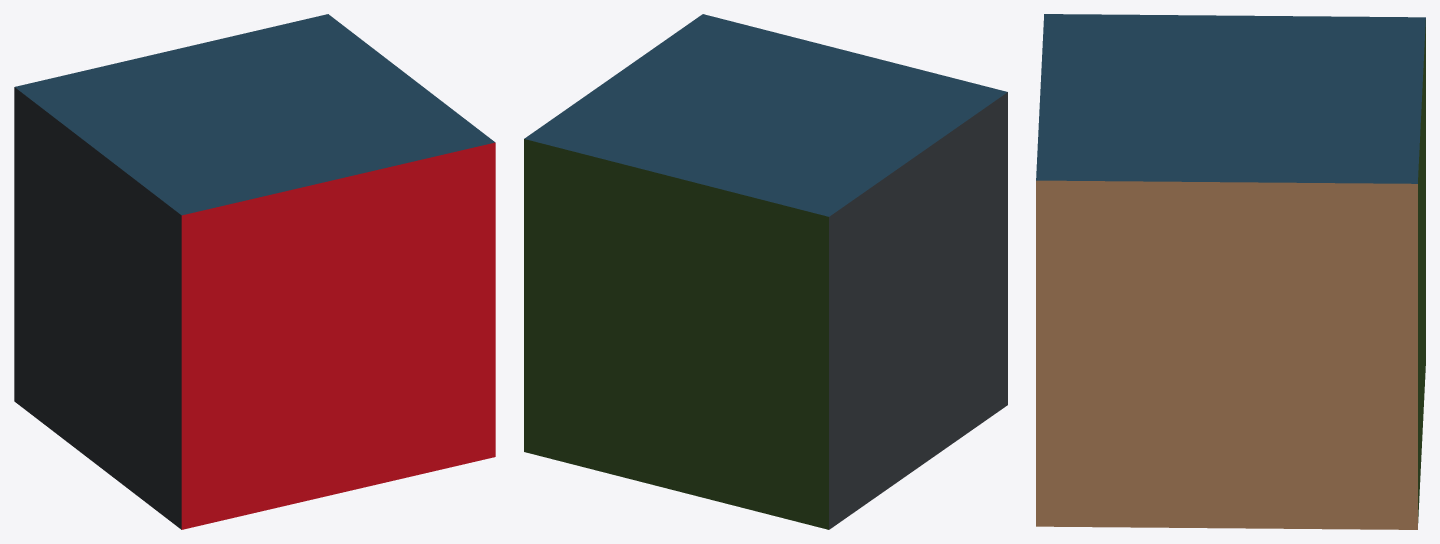
3 renders of one model, left to right at view 1: azimuth 30°, elevation 25°; view 2: azimuth 150°, elevation 25°; view 3: azimuth 270°, elevation 25°, orthographic. The views are drawn at different scales.
Parts seen in each view (by area): view 1: Group1; view 2: Group1; view 3: Group1.
Part boxes in pixels (<box>): Group1: <box>14,14,495,529</box>; Group1: <box>524,14,1007,529</box>; Group1: <box>1036,14,1425,529</box>.
Size of the model in its own units: 106 by 101 by 103.
